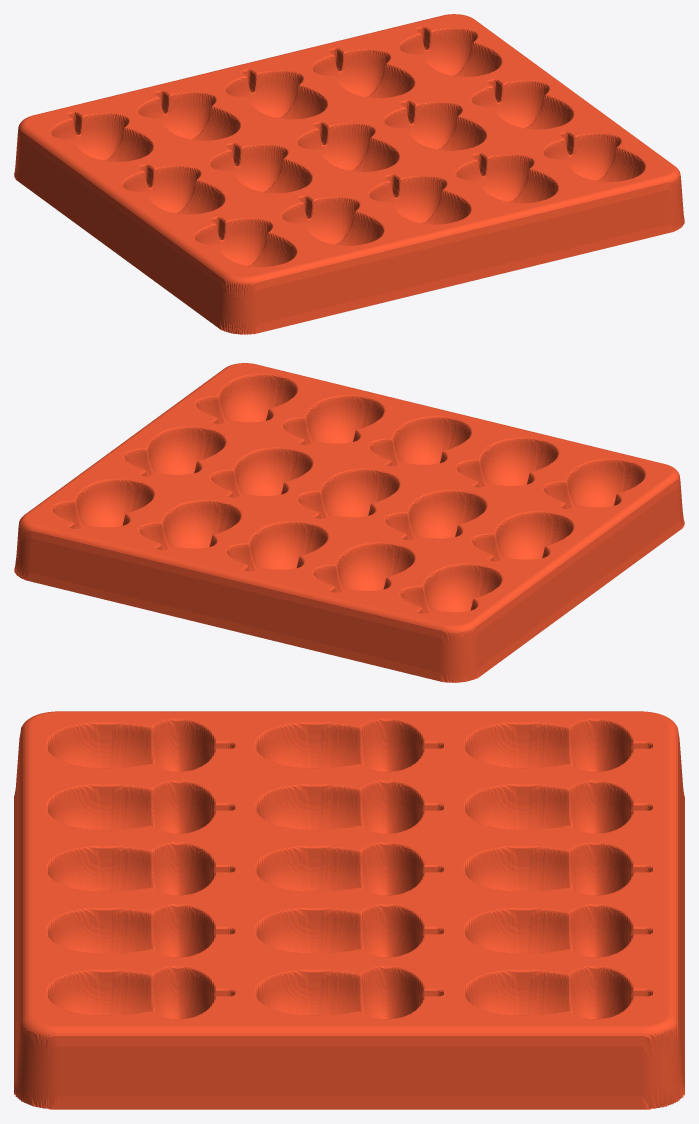
File: mold.glb
3 renders of one model, top to bottom at view 1: azimuth 30°, elevation 25°; view 2: azimuth 150°, elevation 25°; view 3: azimuth 270°, elevation 25°, orthographic. The views are drawn at different scales.
Parts seen in each view (by area): view 1: geometry_0; view 2: geometry_0; view 3: geometry_0.
Boxes of the visible parts, x1,y1,x2,y2 form: geometry_0: [14, 14, 684, 334]; geometry_0: [14, 363, 684, 682]; geometry_0: [14, 711, 684, 1109].
Bounding box in the file's own units: 0.161 × 0.0175 × 0.1392.
